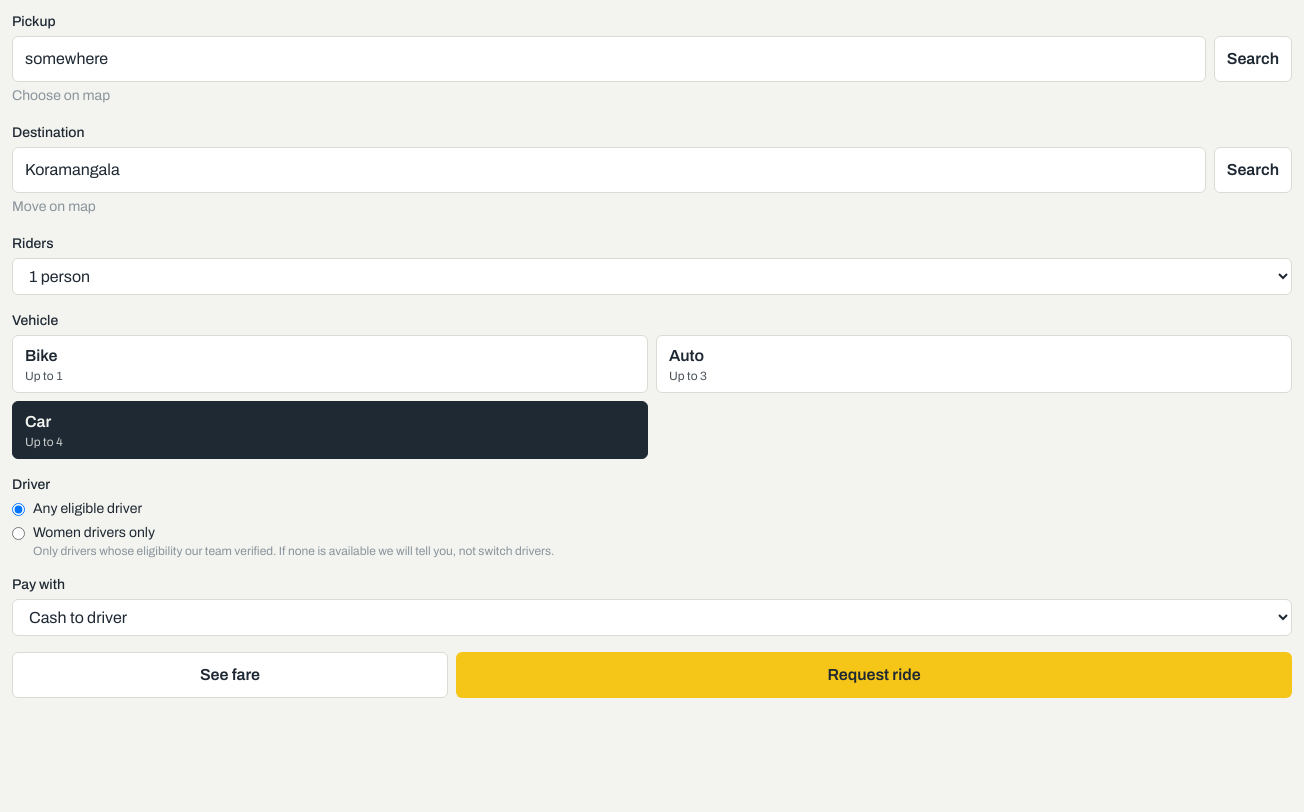
Test: #90 booking form › an address without a map position is not accepted
Click the button "Request ride" at [874, 675], box [456,652,1292,698]
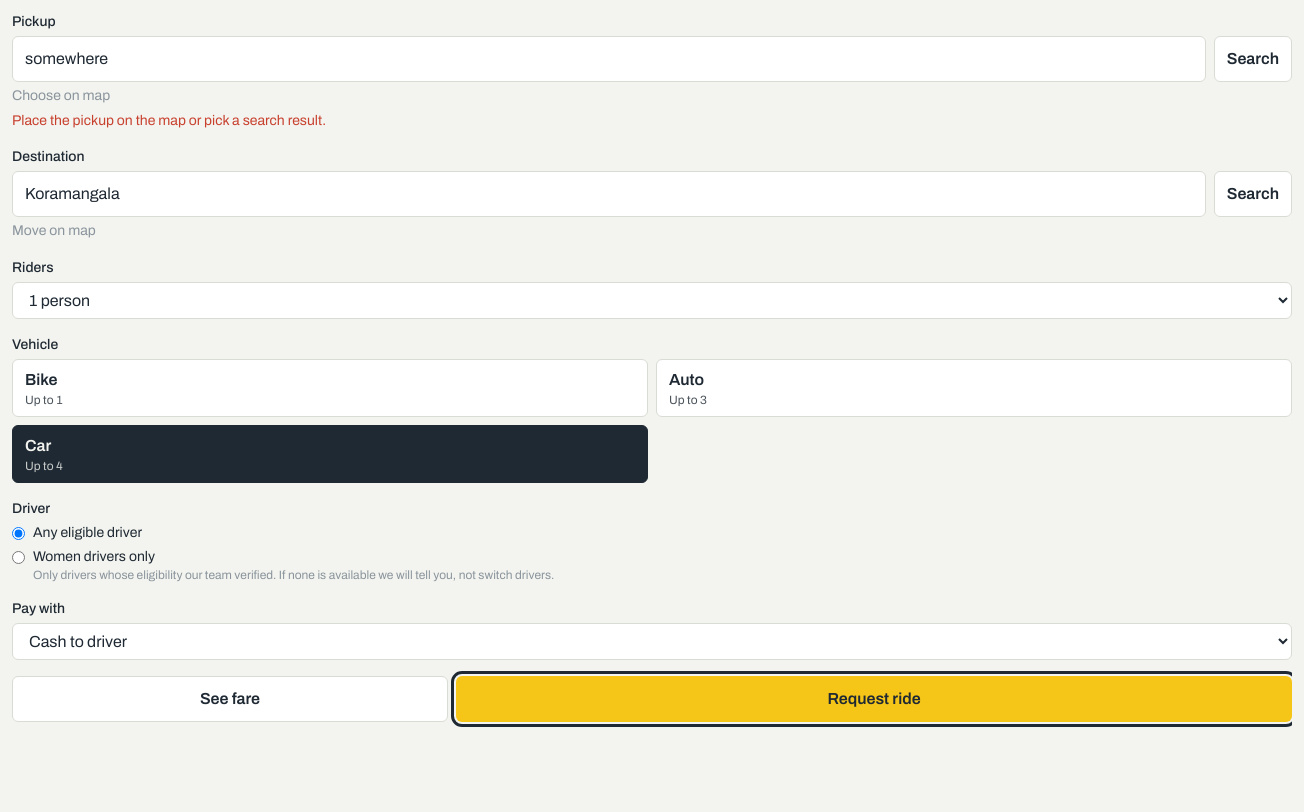
Check: the text "Place the pickup on the map or pick a search result." is shown, box [12,113,326,128]
